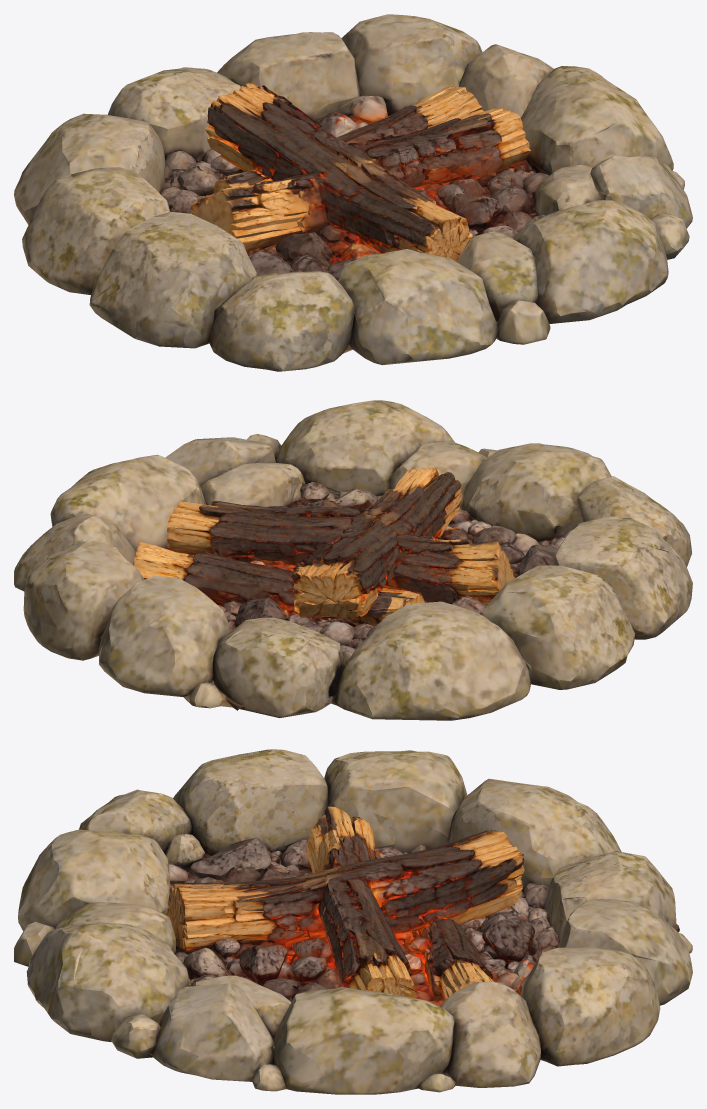
Rendered from campfire.glb.
3 renders of one model, top to bottom at view 1: azimuth 30°, elevation 25°; view 2: azimuth 150°, elevation 25°; view 3: azimuth 270°, elevation 25°, orthographic. The views are drawn at different scales.
Bounding box in the file's own units: 1.9 × 0.2692 × 1.87.
Materials: 1 (1 with a texture image).
